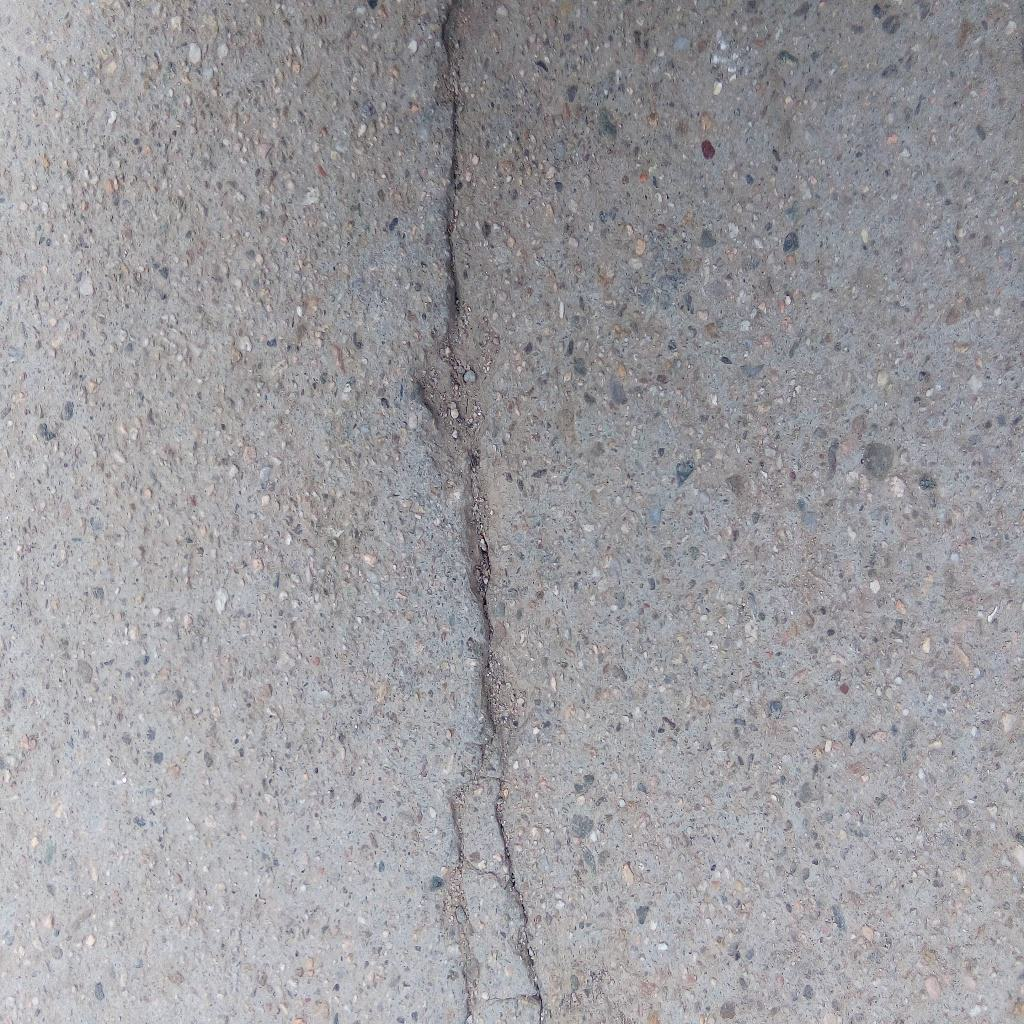Crack: (443, 1, 546, 1024)
